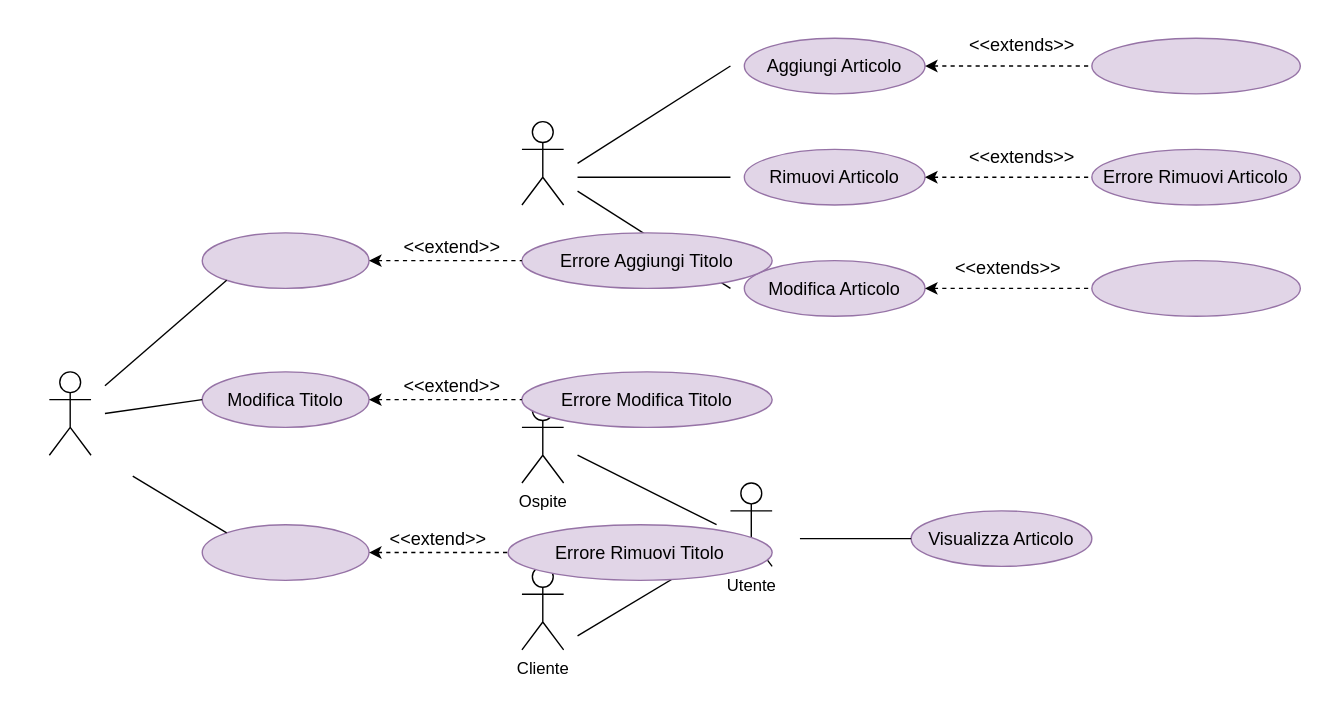
Image size: 1325x702. Some labels were removed from this diagram. The shapes that lost their labels are listed below. From the top down, each one's box as (x1, y1, x2, y2) in pixels, then its label:
(1090, 37, 1300, 94): Errore Aggiungi Articolo
(521, 120, 564, 205): Articolista
(201, 231, 369, 288): Aggiungi Titolo
(1090, 259, 1300, 316): Errore Modifica Articolo
(48, 370, 91, 455): Cataloghista
(201, 523, 369, 580): Rimuovi Titolo
